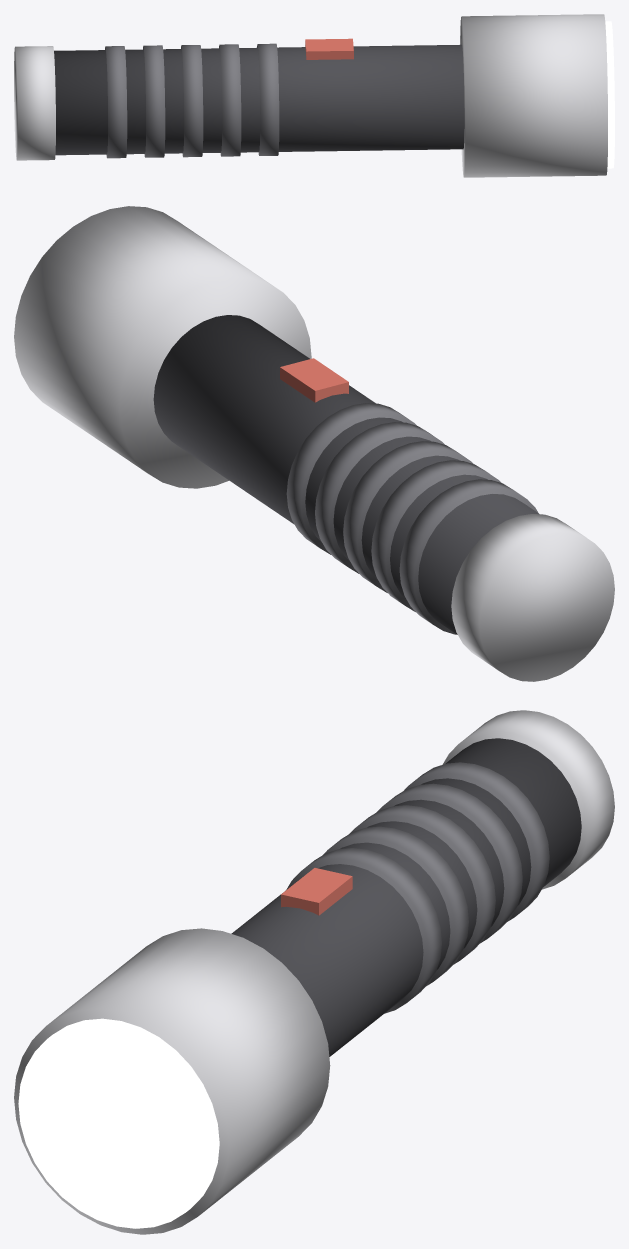
The model's file is flashlight.glb.
The picture shows the model from 3 angles, top to bottom: view 1: azimuth 30°, elevation 25°; view 2: azimuth 150°, elevation 25°; view 3: azimuth 270°, elevation 25°; orthographic projection. The views are drawn at different scales.
Parts seen in each view (by area): view 1: body, head, tail, ring3, ring1, ring0, ring4, ring2, lens, Cube; view 2: head, body, tail, ring0, ring1, ring2, ring4, ring3, Cube; view 3: head, lens, body, tail, ring4, ring0, ring3, ring2, ring1, Cube.
Boxes of the visible parts, x1,y1,x2,y2 form: body: (54, 44, 464, 155); head: (460, 14, 607, 177); tail: (14, 46, 55, 160); ring3: (219, 44, 241, 156); ring1: (143, 45, 165, 157); ring0: (105, 46, 127, 158); ring4: (257, 43, 279, 155); ring2: (181, 45, 203, 157); lens: (605, 21, 614, 168); Cube: (305, 38, 353, 59); head: (14, 206, 311, 488); body: (153, 315, 539, 634); tail: (451, 514, 614, 681); ring0: (399, 479, 538, 634); ring1: (371, 460, 501, 611); ring2: (343, 441, 473, 592); ring4: (286, 403, 416, 554); ring3: (315, 422, 444, 573); Cube: (280, 358, 348, 402); head: (14, 928, 330, 1234); lens: (18, 1018, 219, 1228); body: (231, 738, 581, 1056); tail: (442, 710, 614, 889); ring4: (286, 848, 441, 1013); ring0: (404, 762, 549, 921); ring3: (323, 826, 468, 985); ring2: (349, 805, 495, 964); ring1: (376, 783, 522, 943); Cube: (281, 868, 352, 915).
Size of the model in its own units: 1.24 by 0.34 by 0.8382.
